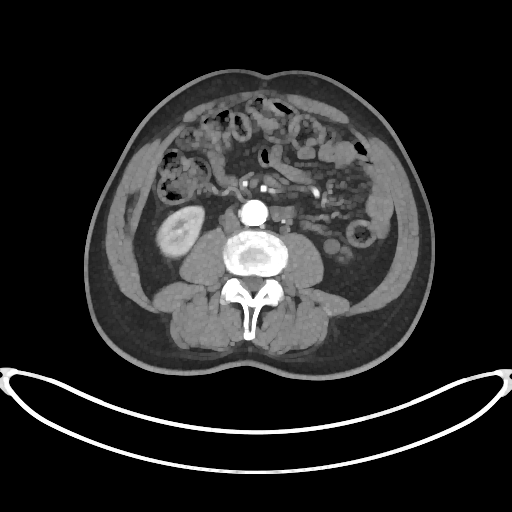Lesion: (320, 234, 341, 260)
